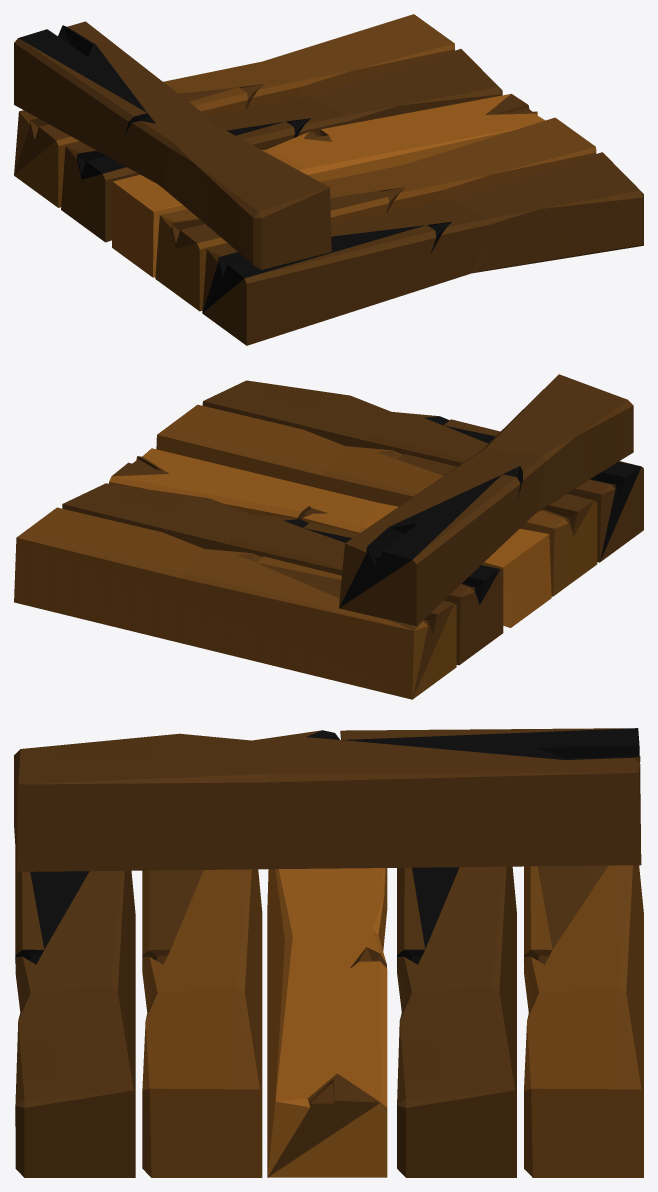
File: MadeiraChao2.glb
3 renders of one model, top to bottom at view 1: azimuth 30°, elevation 25°; view 2: azimuth 150°, elevation 25°; view 3: azimuth 270°, elevation 25°, orthographic. The views are drawn at different scales.
Parts seen in each view (by area): view 1: MadeiraChao2; view 2: MadeiraChao2; view 3: MadeiraChao2.
Part boxes in pixels (x1,y1,x2,y2): MadeiraChao2: [14, 14, 643, 345]; MadeiraChao2: [14, 374, 643, 699]; MadeiraChao2: [14, 728, 643, 1177].
Bounding box in the file's own units: 1.96 × 0.6523 × 1.97.
1 material, 1 textured.
